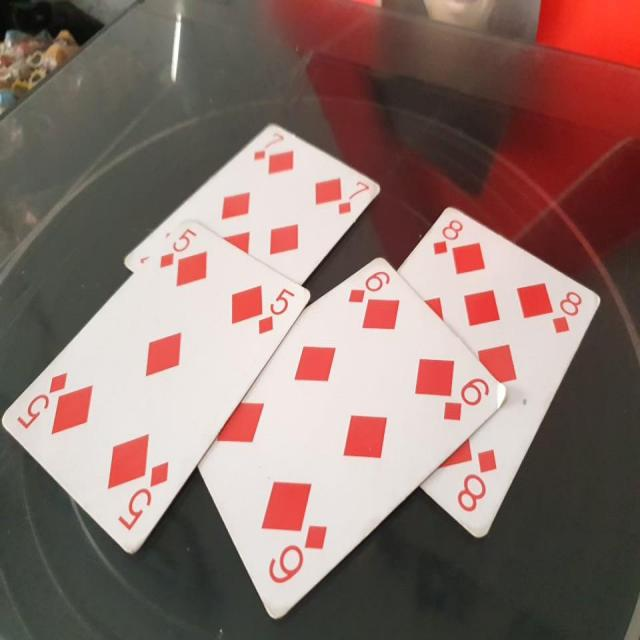5 Diamonds: (1, 217, 310, 556)
6 Diamonds: (199, 258, 508, 620)
7 Diamonds: (123, 119, 381, 306)
8 Diamonds: (396, 206, 602, 538)
